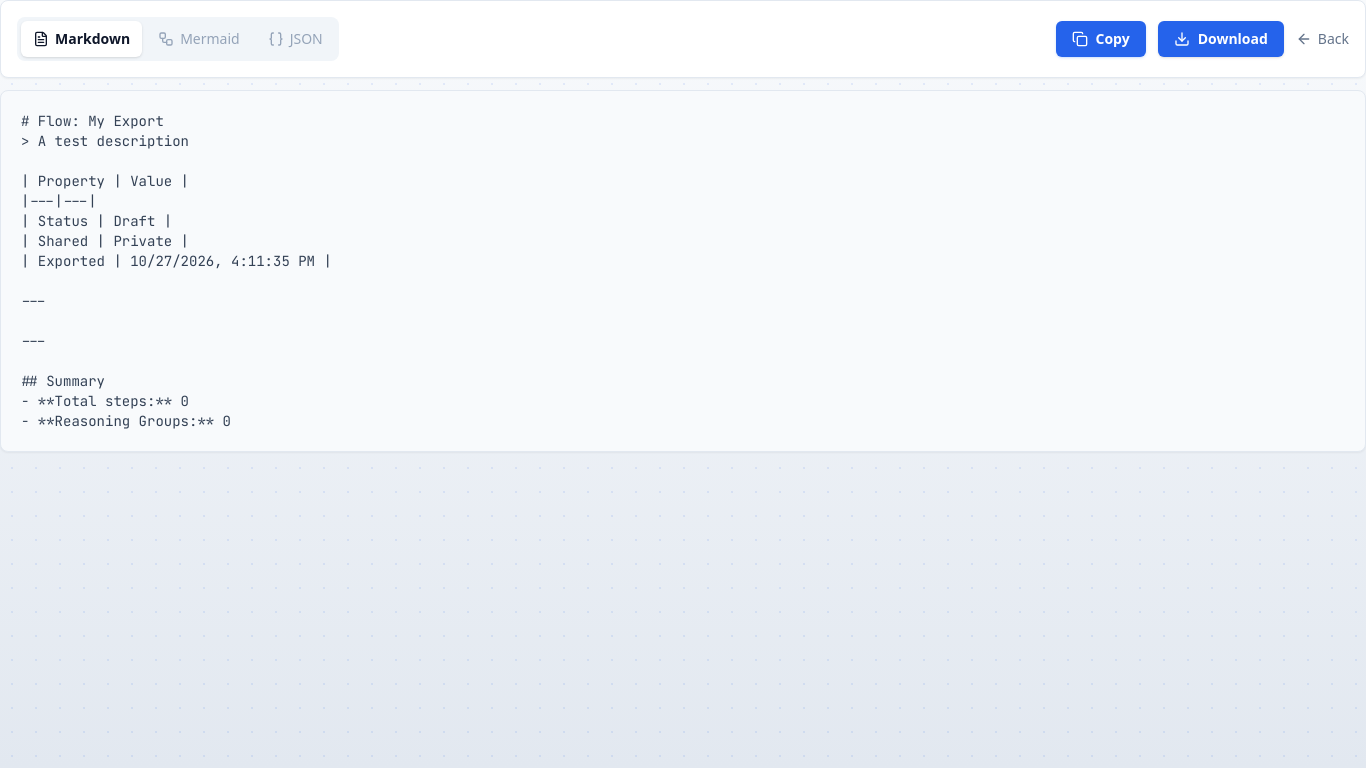
Test: ExportPhase › content area shows JSON when JSON format is selected
Click the button titled "Canonical re-importable format".
click(295, 39)  # box [256, 21, 335, 57]
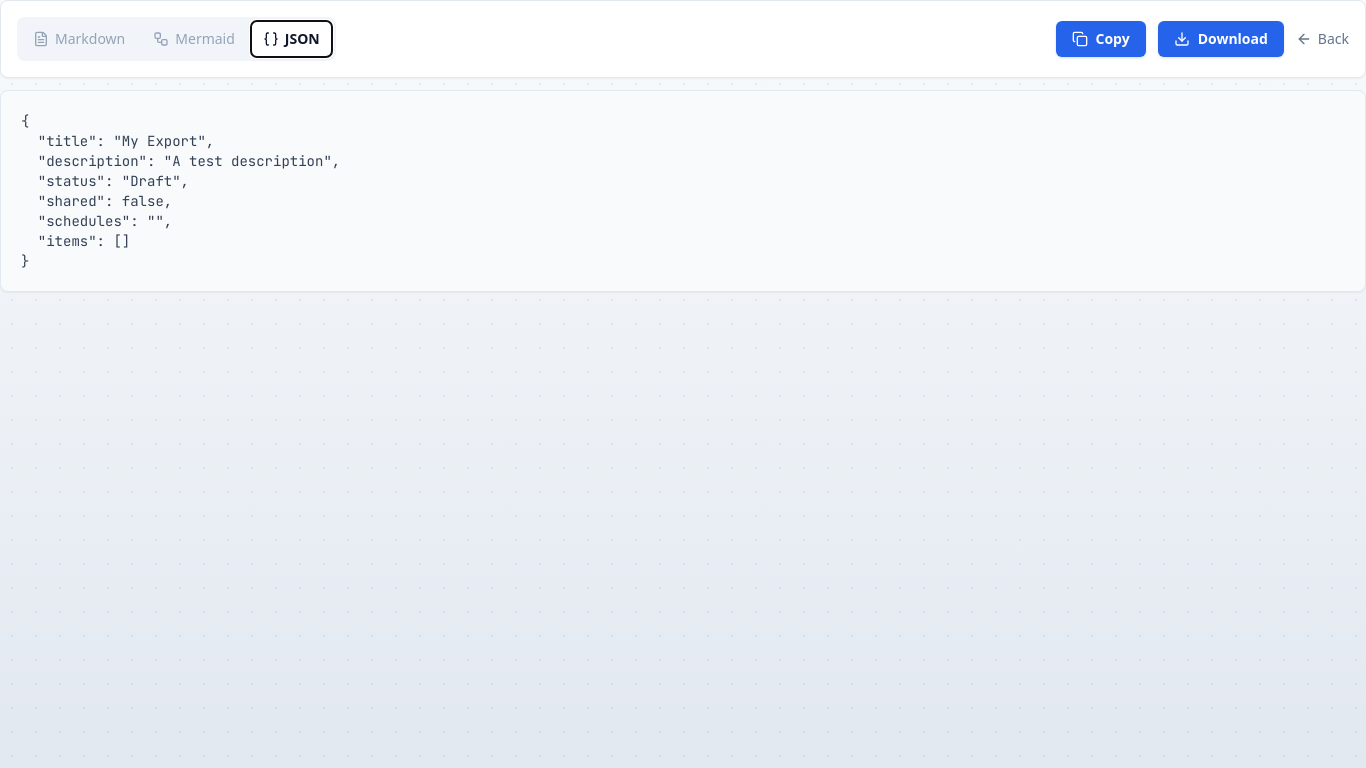
Result: the text "\"title\": \"My Export\"" is shown at [21, 112, 340, 270]
